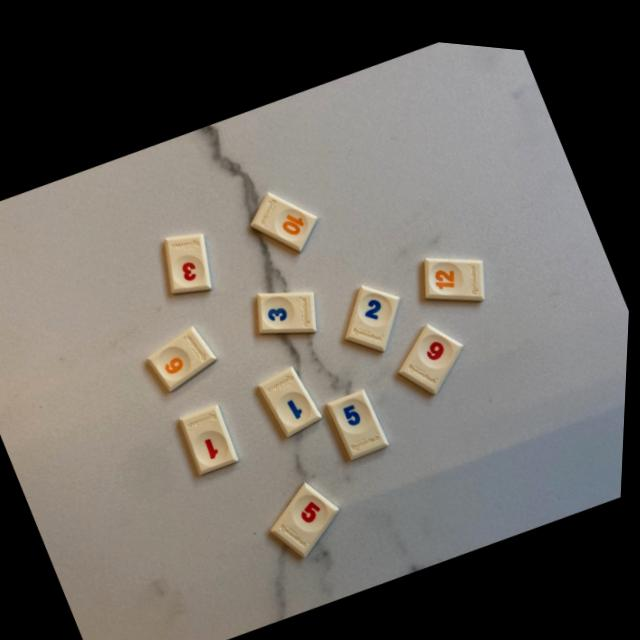blue_1: (262, 361, 325, 430)
blue_2: (349, 278, 402, 343)
blue_3: (259, 287, 319, 327)
blue_5: (331, 382, 391, 451)
orange_10: (254, 187, 319, 245)
orange_12: (427, 250, 486, 290)
orange_6: (151, 322, 220, 388)
red_1: (185, 400, 242, 470)
red_3: (167, 230, 214, 289)
red_5: (276, 476, 344, 551)
red_9: (403, 315, 466, 385)
